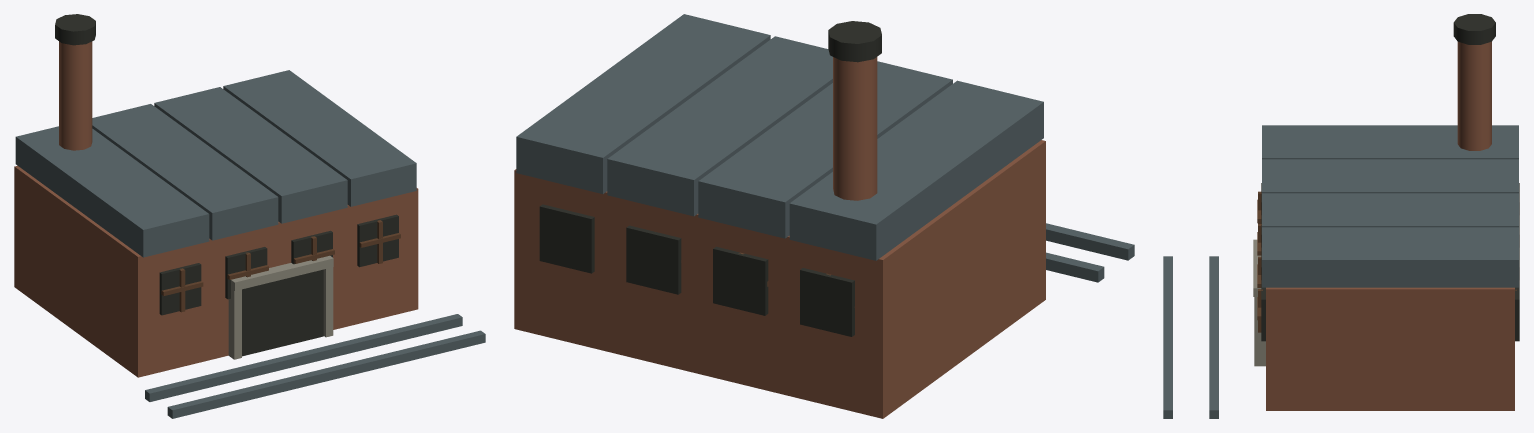
File: custom-imp-railworks.glb
3 renders of one model, left to right at view 1: azimuth 30°, elevation 25°; view 2: azimuth 150°, elevation 25°; view 3: azimuth 270°, elevation 25°, orthographic. The views are drawn at different scales.
Visible parts, largest first — view 1: custom-imp-railworks; view 2: custom-imp-railworks; view 3: custom-imp-railworks.
Boxes of the visible parts, box(x1,y1,x2,y2) form: custom-imp-railworks: box(14, 14, 485, 418); custom-imp-railworks: box(514, 14, 1134, 418); custom-imp-railworks: box(1163, 14, 1519, 418).
Size of the model in its own units: 1 by 0.8211 by 0.9784.
